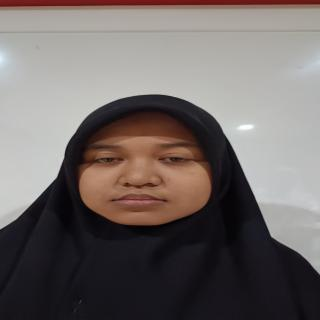Netral: (70, 106, 222, 233)
